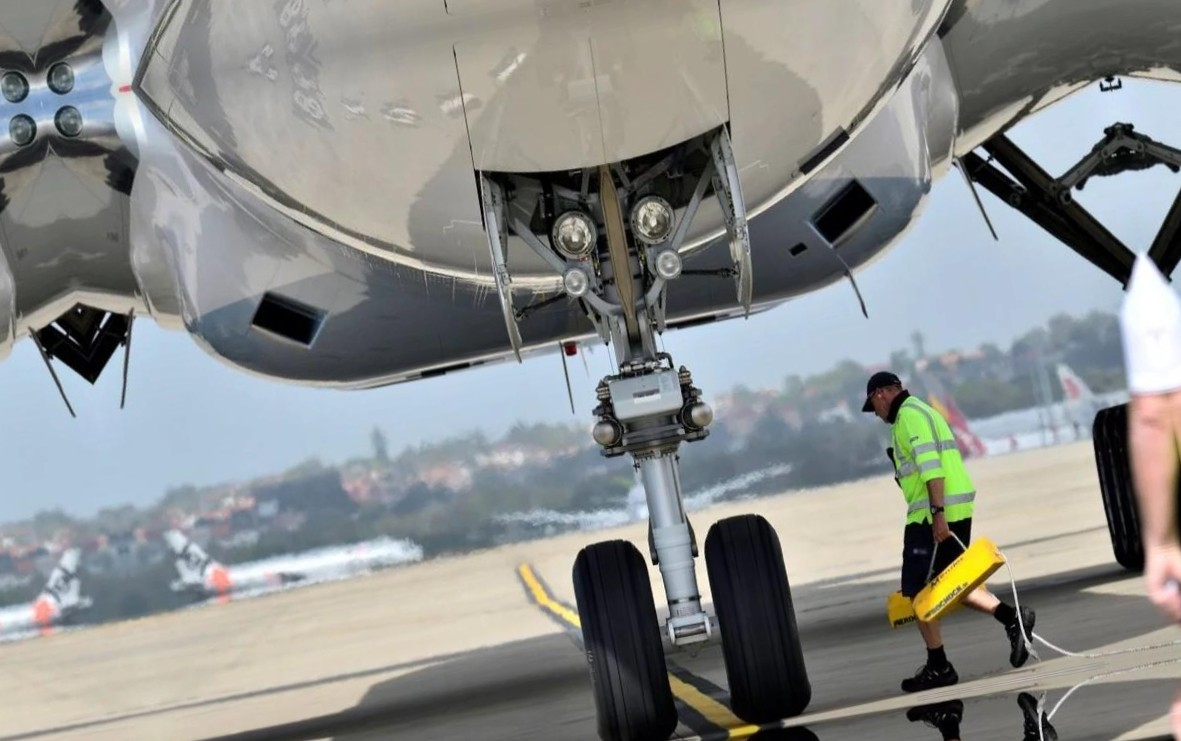chock: (898, 532, 1017, 626), (883, 572, 990, 626)
wheel: (696, 508, 814, 727), (562, 534, 679, 741), (1086, 404, 1156, 573)
